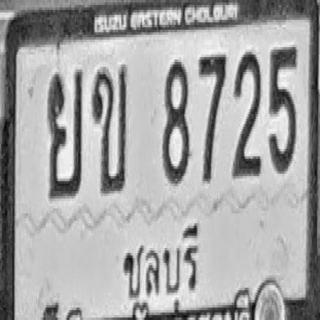A02: (92, 63, 127, 192)
A34: (47, 68, 82, 197)
N02: (232, 51, 261, 175)
N05: (269, 45, 296, 171)
N07: (198, 52, 226, 181)
N08: (163, 58, 189, 182)
P13: (117, 218, 200, 293)
